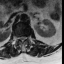CCS_normal: (21, 33, 24, 44)
LFS_stenosis: (26, 33, 29, 41)
LLS_normal: (24, 33, 26, 42)
RFS_normal: (16, 33, 18, 41)
RLS_normal: (18, 34, 21, 42)
